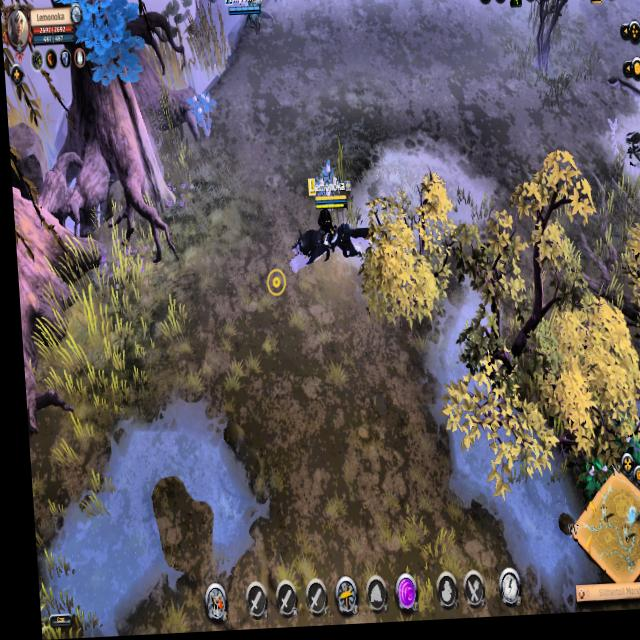fiber tier 4: (185, 90, 217, 142)
